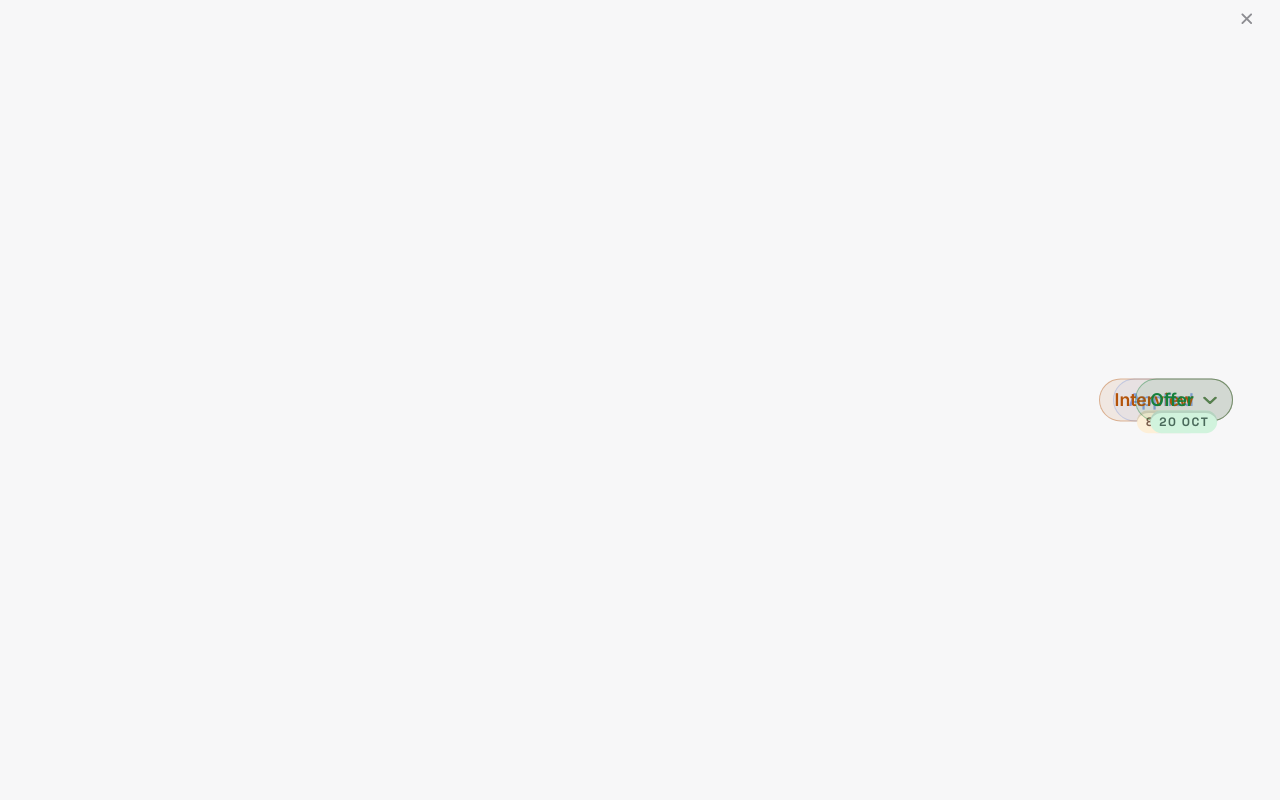
Test: StatusStack › changes a step's date from the date box
The image size is (1280, 800).
Click the button with aria-label "Offer on 20 Oct".
click(1184, 422)  # box [1150,410,1217,433]
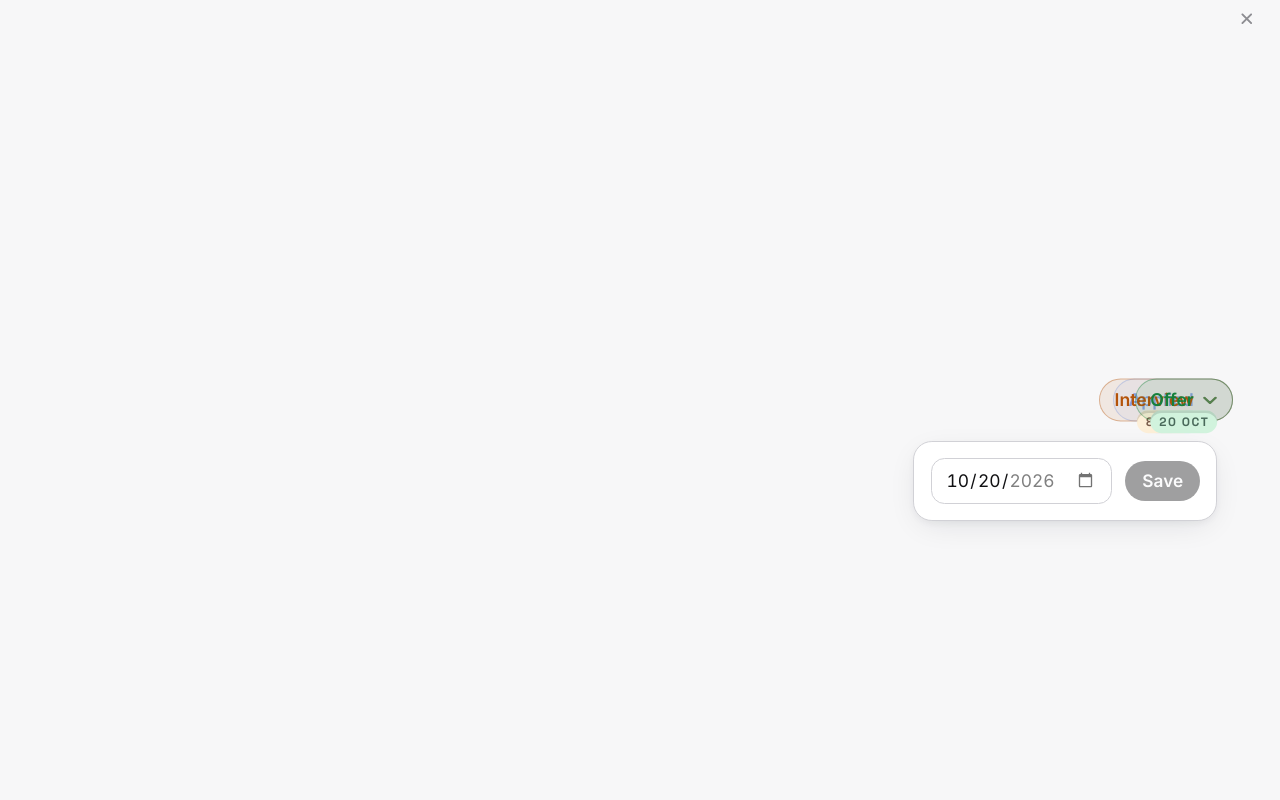
Type "2026-10-22" into the date field named "Offer date".
click(1021, 481); type("2026-10-22")  # box [931,458,1112,504]
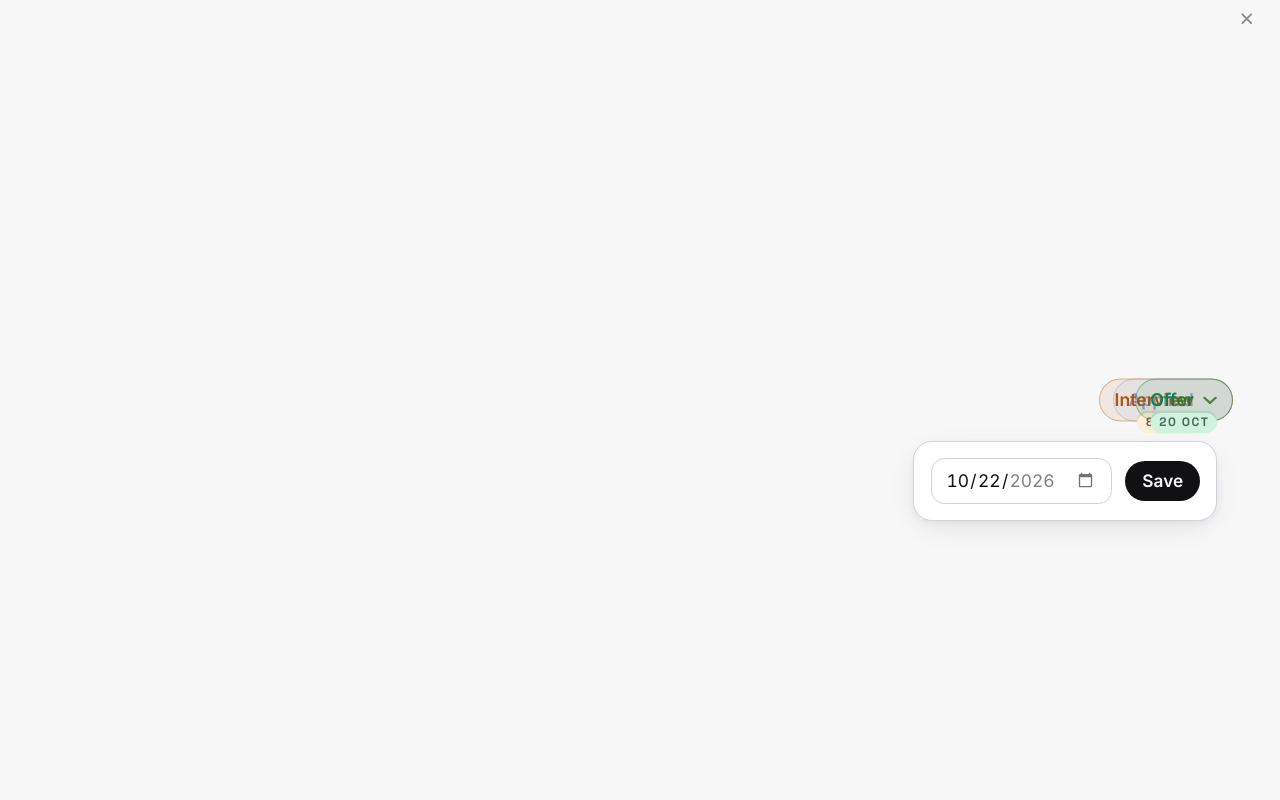
Click the button "Save".
click(1163, 481)  # box [1125,461,1200,501]
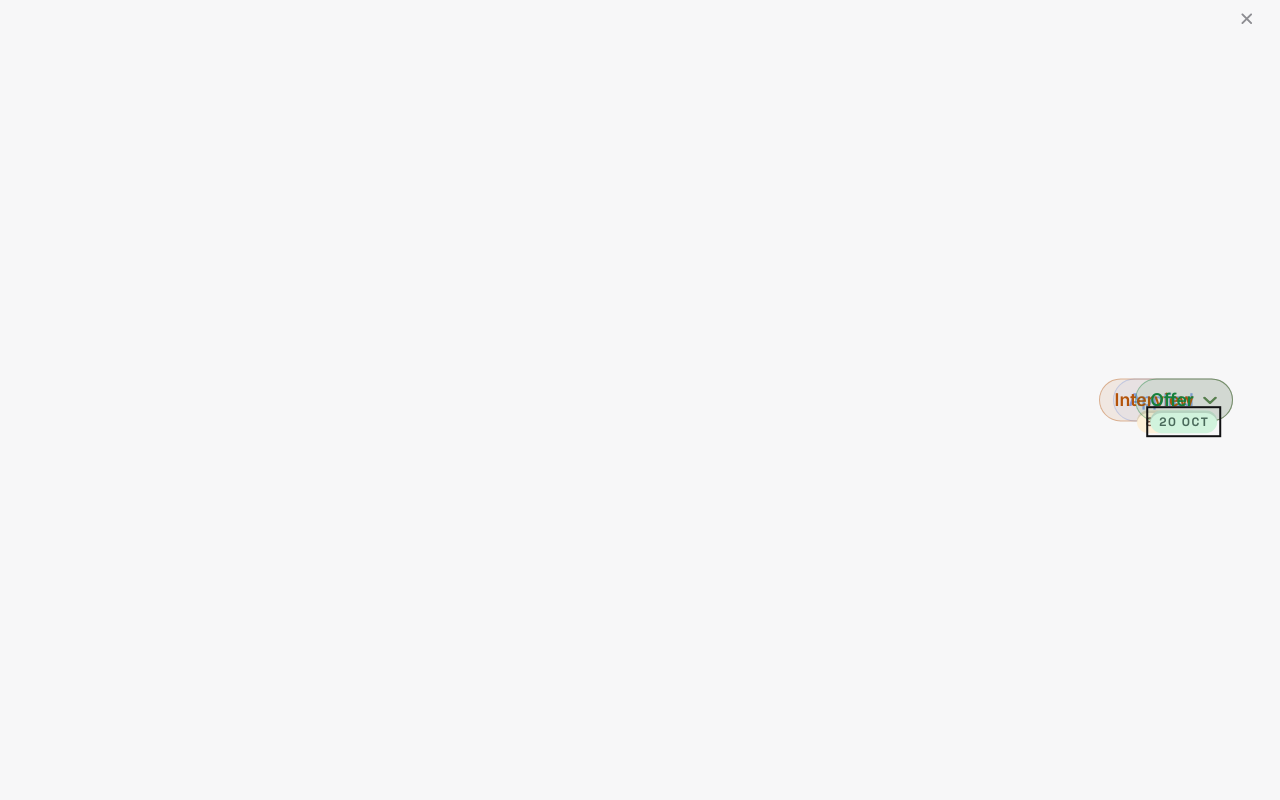
Expected: the dialog is gone
